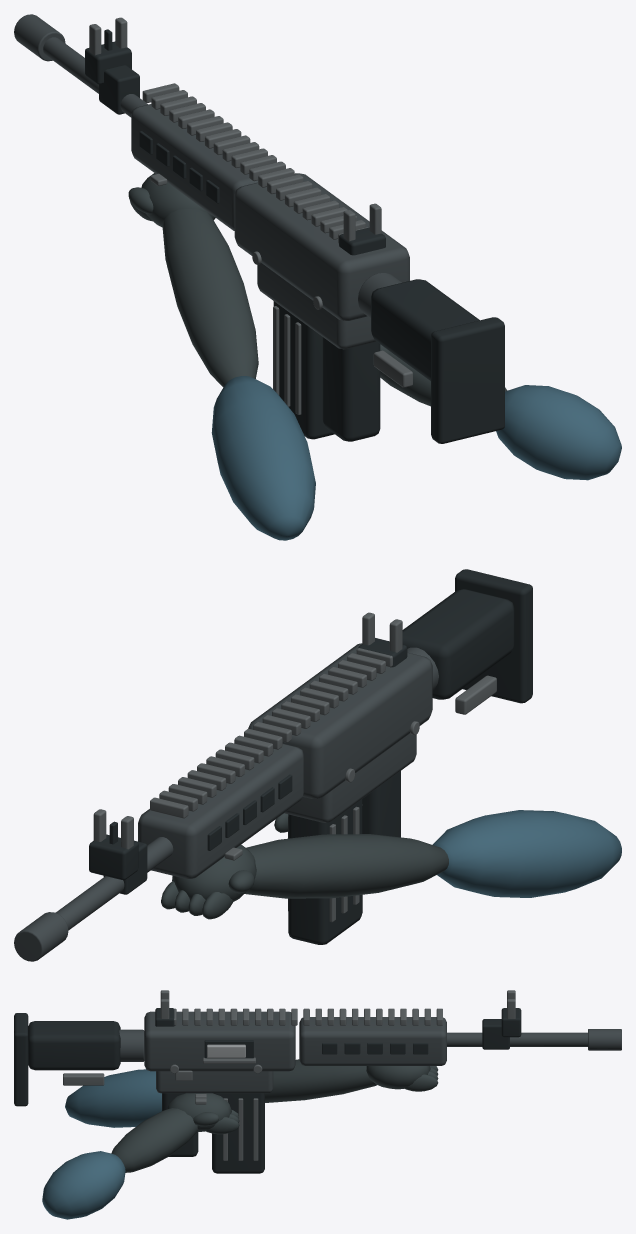
File: view_m4.glb
3 views of the same model, one above another, from view 1: azimuth 30°, elevation 25°; view 2: azimuth 150°, elevation 25°; view 3: azimuth 270°, elevation 25° (orthographic). The views are drawn at different scales.
Visible parts, largest first — view 1: weapon_body_mesh, support_hand_mesh, trigger_hand_mesh, magazine_mesh; view 2: weapon_body_mesh, support_hand_mesh, magazine_mesh; view 3: weapon_body_mesh, trigger_hand_mesh, support_hand_mesh, magazine_mesh, bolt_mesh.
Boxes of the visible parts, x1,y1,x2,y2 form: weapon_body_mesh: (14,14,504,443); support_hand_mesh: (128,173,315,540); trigger_hand_mesh: (380,344,621,480); magazine_mesh: (273,301,334,439); weapon_body_mesh: (14,569,532,961); support_hand_mesh: (161,810,621,919); magazine_mesh: (288,799,362,944); weapon_body_mesh: (14,990,621,1156); trigger_hand_mesh: (42,1093,239,1219); support_hand_mesh: (65,1059,438,1127); magazine_mesh: (212,1093,264,1173); bolt_mesh: (207,1044,245,1057).
Bounding box in the file's own units: 0.7241 × 0.507 × 1.61.
